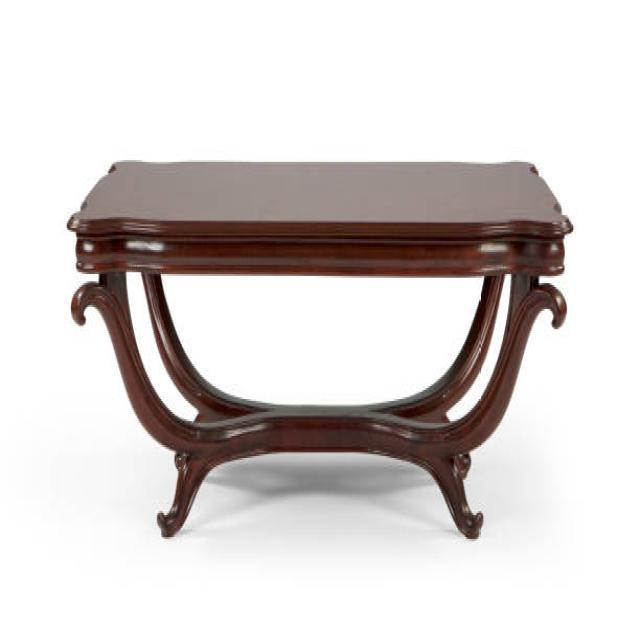table: (66, 156, 573, 541)
